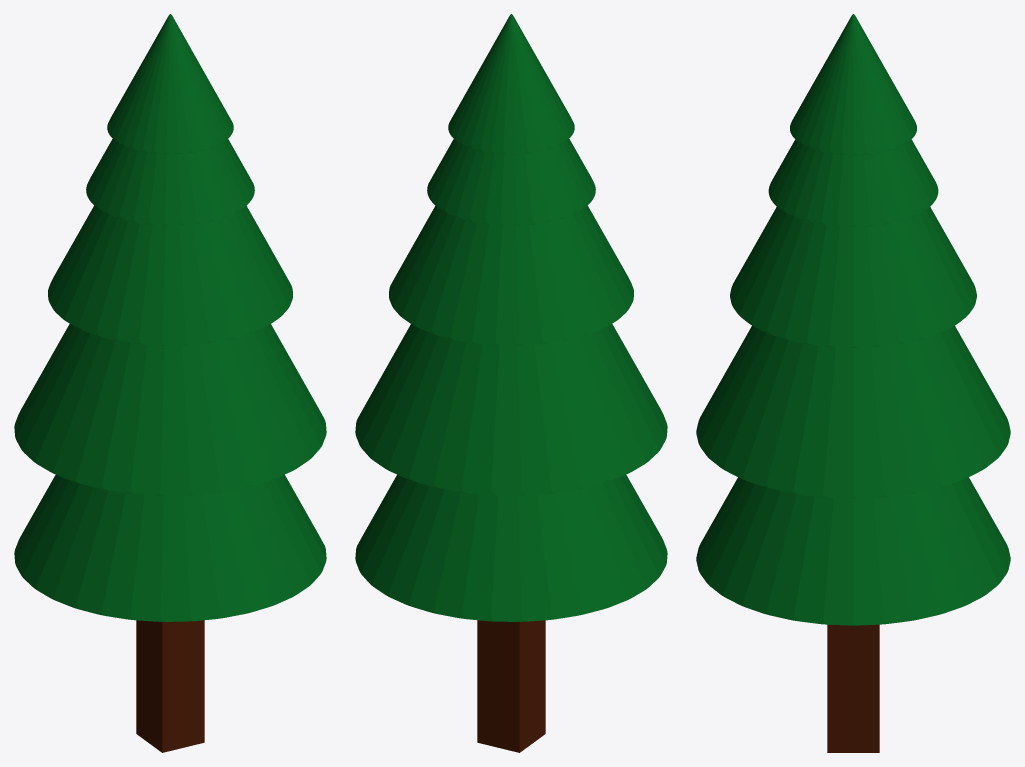
Rendered from tree.fbx.
3 renders of one model, left to right at view 1: azimuth 30°, elevation 25°; view 2: azimuth 150°, elevation 25°; view 3: azimuth 270°, elevation 25°, orthographic.
Visible parts, largest first — view 1: Cone.004, Cube; view 2: Cone.004, Cube; view 3: Cone.004, Cube.
Part boxes in pixels (left/top/right/bottom): Cone.004: left=14, top=14, right=326, bottom=621; Cube: left=136, top=620, right=204, bottom=752; Cone.004: left=355, top=14, right=667, bottom=621; Cube: left=477, top=620, right=545, bottom=752; Cone.004: left=696, top=14, right=1010, bottom=625; Cube: left=827, top=624, right=879, bottom=752.
Bounding box in the file's own units: 437 × 1119 × 437.
